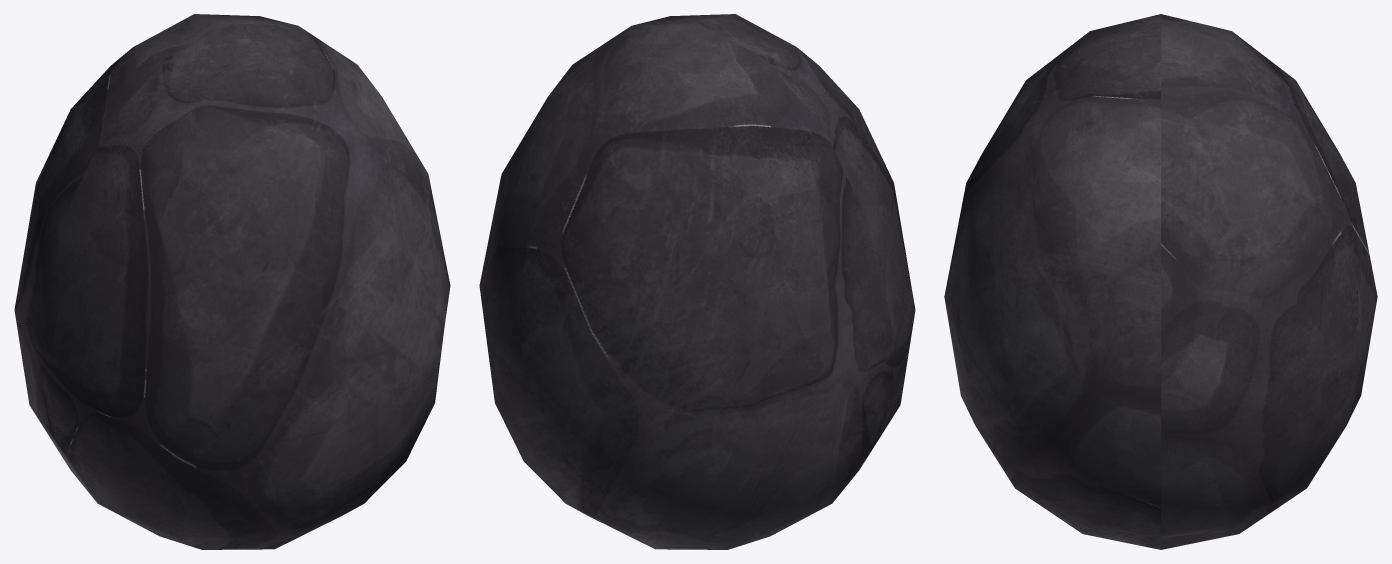
File: Egg1-Map2.fbx
The picture shows the model from 3 angles, left to right: view 1: azimuth 30°, elevation 25°; view 2: azimuth 150°, elevation 25°; view 3: azimuth 270°, elevation 25°; orthographic projection.
Parts seen in each view (by area): view 1: Egg1-Map2; view 2: Egg1-Map2; view 3: Egg1-Map2.
Part boxes in pixels (x1=…): Egg1-Map2: x1=14, y1=14, x2=450, y2=549; Egg1-Map2: x1=479, y1=14, x2=915, y2=549; Egg1-Map2: x1=944, y1=14, x2=1377, y2=549.
Bounding box in the file's own units: 346 × 444 × 346.
